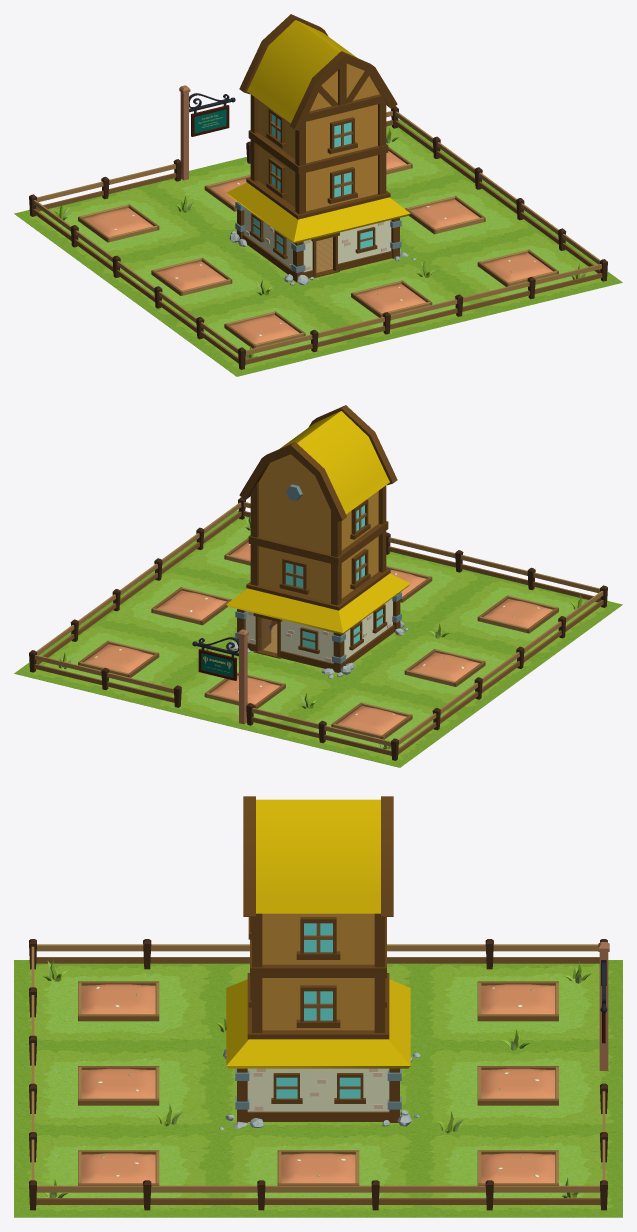
File: farm.glb
The picture shows the model from 3 angles, top to bottom: view 1: azimuth 30°, elevation 25°; view 2: azimuth 150°, elevation 25°; view 3: azimuth 270°, elevation 25°; orthographic projection. The views are drawn at different scales.
Parts seen in each view (by area): view 1: grass, buildingMain, fence, lowerRoof, struts, upperColumns, upperBeam, triBeams, bed (7), bed (5), bed (4), bed (6) (+18 smaller); view 2: grass, buildingMain, fence, lowerRoof, struts, upperColumns, upperBeam, bed (6), bed, bed (2), bed (7), bed (3) (+15 smaller); view 3: grass, buildingMain, fence, lowerRoof, struts, upperColumns, bed (3), bed, bed (6), bed (4), bed (2), bed (5) (+17 smaller).
Part boxes in pixels (x1,y1,x2,y2): grass: (14,119,622,376); buildingMain: (239,14,397,271); fence: (33,111,602,364); lowerRoof: (226,177,410,243); struts: (29,106,607,369); upperColumns: (250,94,386,214); upperBeam: (248,130,388,174); triBeams: (305,63,385,121); bed (7): (157,261,226,290); bed (5): (357,284,426,313); bed (4): (483,253,552,282); bed (6): (230,315,299,343); grass: (14,510,622,767); buildingMain: (239,405,397,663); fence: (34,502,603,755); lowerRoof: (226,568,410,634); struts: (29,497,607,760); upperColumns: (250,482,386,605); upperBeam: (248,521,388,565); bed (6): (483,599,553,627); bed: (337,706,406,734); bed (2): (84,644,153,673); bed (7): (410,652,479,681); bed (3): (157,590,226,619); grass: (14,960,622,1217); buildingMain: (243,796,393,1111); fence: (31,944,605,1204); lowerRoof: (226,973,410,1068); struts: (29,939,607,1210); upperColumns: (252,913,384,1032); bed (3): (281,1153,355,1183); bed: (481,984,555,1014); bed (6): (81,984,155,1014); bed (4): (81,1153,155,1183); bed (2): (481,1153,555,1183); bed (5): (81,1068,155,1098).
Size of what is drawn, in the model's own units: 32 by 17.25 by 32.
9 materials, 4 textured.
